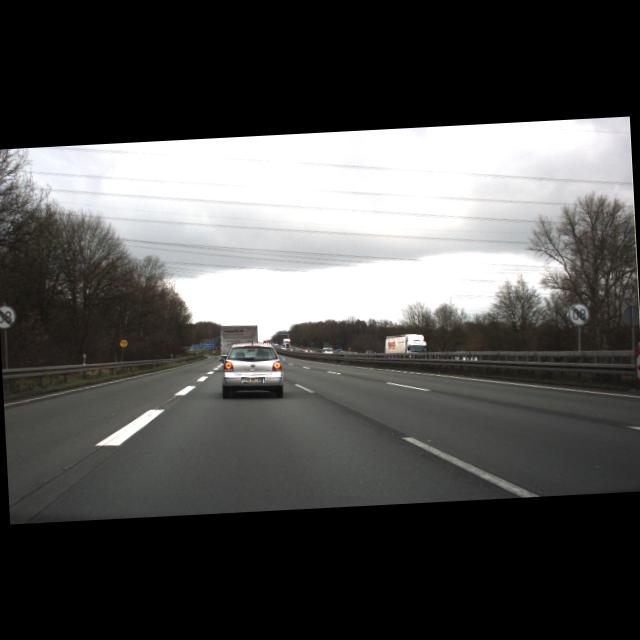other: (568, 302, 592, 326), (0, 304, 17, 328)
